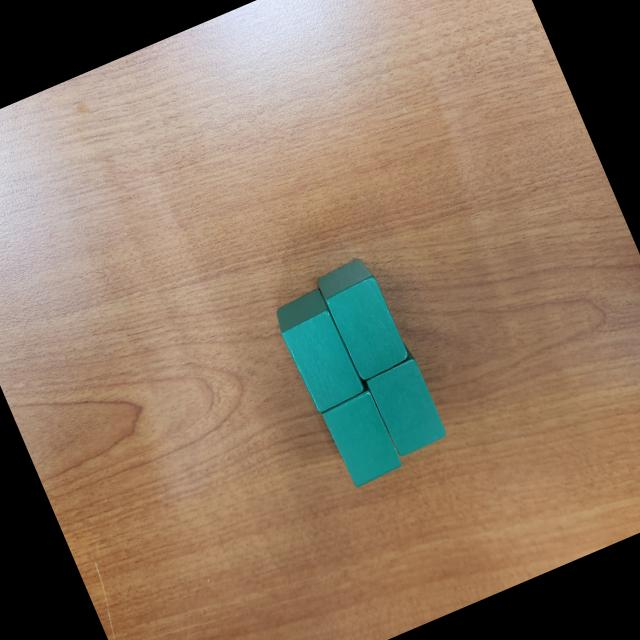green: (267, 284, 368, 414), (314, 255, 412, 386), (361, 353, 452, 460), (316, 387, 406, 492)
